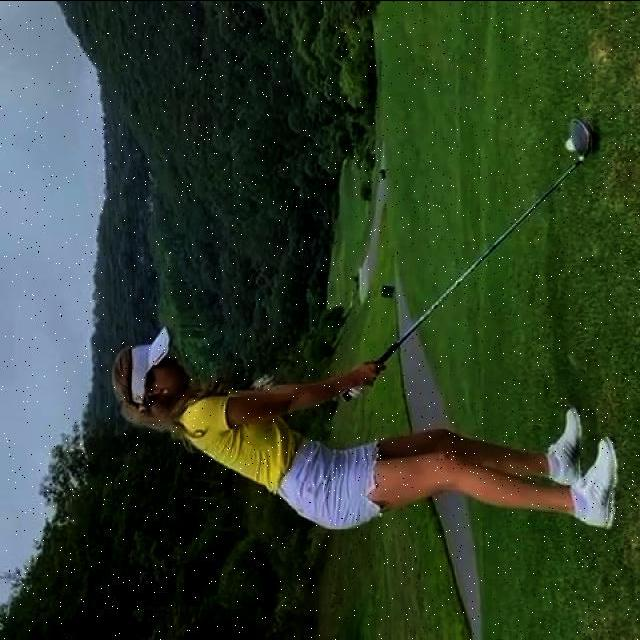ClubHandle: (342, 117, 595, 401)
ClubHead: (571, 119, 596, 156)
GolfBall: (566, 137, 576, 151)
